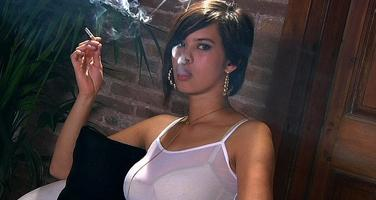person: (50, 2, 277, 200)
